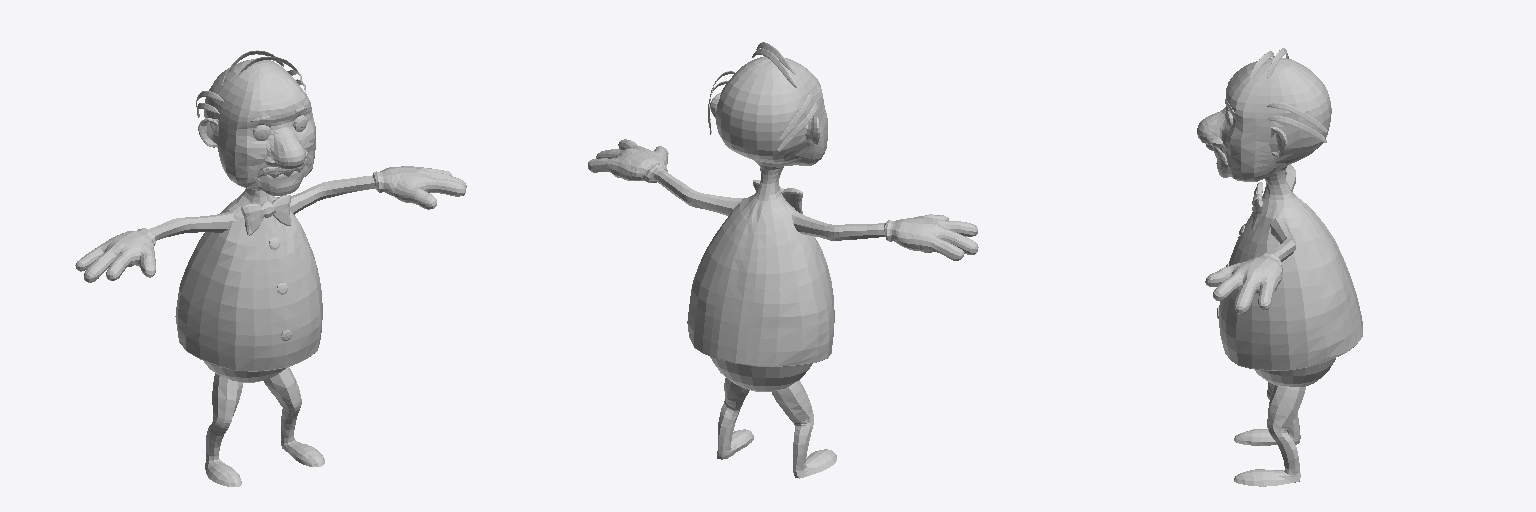
The model's file is Comic Oldman.obj.
3 renders of one model, left to right at view 1: azimuth 30°, elevation 25°; view 2: azimuth 150°, elevation 25°; view 3: azimuth 270°, elevation 25°, orthographic.
Visible parts, largest first — view 1: Figure_2; view 2: Figure_2; view 3: Figure_2.
Part boxes in pixels (x1,y1,x2,y2): Figure_2: (75, 50, 466, 486); Figure_2: (588, 42, 978, 478); Figure_2: (1197, 48, 1362, 486).
Bounding box in the file's own units: 20.74 × 21.41 × 7.87.